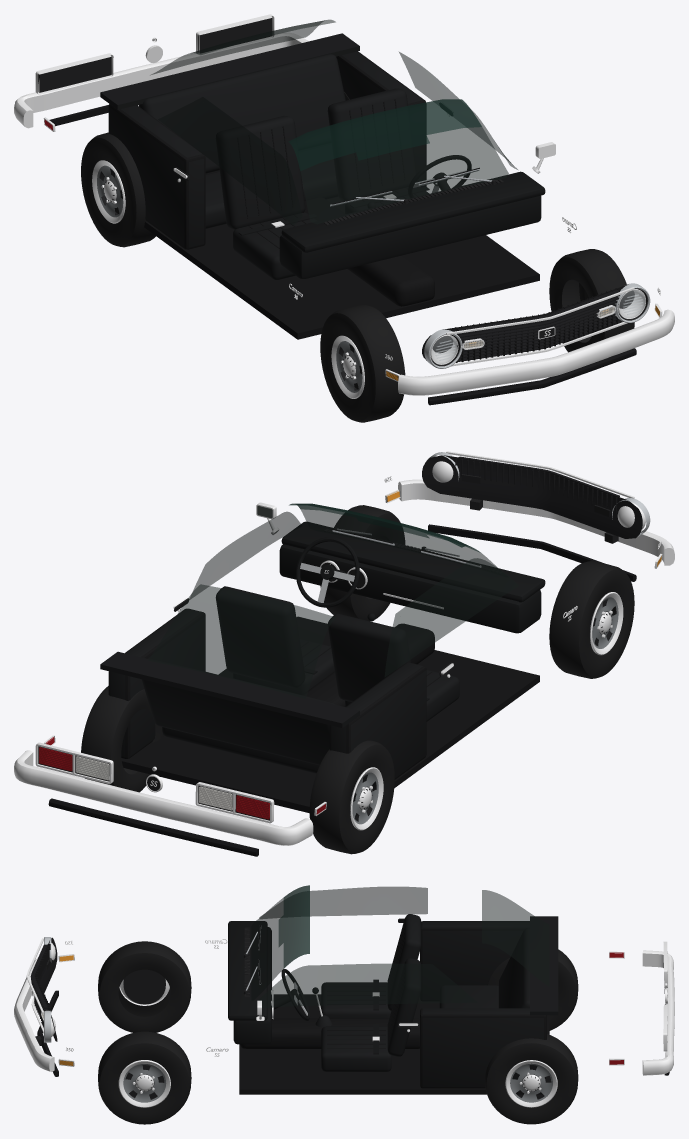
The model's file is exterior.glb.
3 views of the same model, one above another, from view 1: azimuth 30°, elevation 25°; view 2: azimuth 150°, elevation 25°; view 3: azimuth 270°, elevation 25° (orthographic). The views are drawn at different scales.
Parts seen in each view (by area): view 1: piso-interior, butacas, parabrisas, asiento-trasero, tablero, llanta-del-der, parrilla, ventanilla-der, llanta-tras-der, paragolpes-delantero, paragolpes-trasero, llanta-del-izq (+11 smaller); view 2: piso-interior, butacas, tablero, luneta, asiento-trasero, parrilla, llanta-del-der, llanta-tras-der, paragolpes-trasero, ventanilla-der, parabrisas, llanta-tras-izq (+10 smaller); view 3: piso-interior, butacas, llanta-del-izq, llanta-del-der, llanta-tras-izq, ventanilla-izq, tablero, parabrisas, luneta, ventanilla-der, asiento-trasero, paragolpes-trasero (+6 smaller).
Boxes of the visible parts, left/top/right/bottom form: piso-interior: left=100, top=33, right=539, bottom=339; butacas: left=215, top=88, right=429, bottom=279; parabrisas: left=288, top=99, right=508, bottom=224; asiento-trasero: left=139, top=54, right=345, bottom=228; tablero: left=279, top=171, right=545, bottom=279; llanta-del-der: left=320, top=304, right=405, bottom=422; parrilla: left=422, top=284, right=634, bottom=366; ventanilla-der: left=189, top=99, right=302, bottom=225; llanta-tras-der: left=81, top=132, right=155, bottom=247; paragolpes-delantero: left=398, top=309, right=674, bottom=395; paragolpes-trasero: left=14, top=32, right=308, bottom=128; llanta-del-izq: left=549, top=249, right=634, bottom=352; piso-interior: left=100, top=608, right=539, bottom=816; butacas: left=216, top=586, right=459, bottom=721; tablero: left=279, top=521, right=545, bottom=633; luneta: left=148, top=584, right=336, bottom=698; asiento-trasero: left=141, top=658, right=335, bottom=773; parrilla: left=422, top=451, right=642, bottom=538; llanta-del-der: left=549, top=561, right=634, bottom=678; llanta-tras-der: left=309, top=740, right=394, bottom=854; paragolpes-trasero: left=14, top=750, right=313, bottom=845; ventanilla-der: left=399, top=558, right=518, bottom=655; parabrisas: left=289, top=503, right=507, bottom=576; llanta-tras-izq: left=81, top=686, right=163, bottom=792; piso-interior: left=239, top=916, right=558, bottom=1094; butacas: left=321, top=914, right=421, bottom=1071; llanta-del-izq: left=98, top=1031, right=191, bottom=1124; llanta-del-der: left=98, top=941, right=191, bottom=1032; llanta-tras-izq: left=485, top=1034, right=578, bottom=1124; ventanilla-izq: left=259, top=963, right=427, bottom=1008; tablero: left=228, top=921, right=273, bottom=1044; parabrisas: left=251, top=885, right=309, bottom=1000; luneta: left=482, top=890, right=549, bottom=985; ventanilla-der: left=259, top=886, right=427, bottom=918; asiento-trasero: left=439, top=928, right=529, bottom=1008; paragolpes-trasero: left=642, top=950, right=674, bottom=1075.
Bounding box in the file's own units: 1.94 × 1.26 × 4.69.
